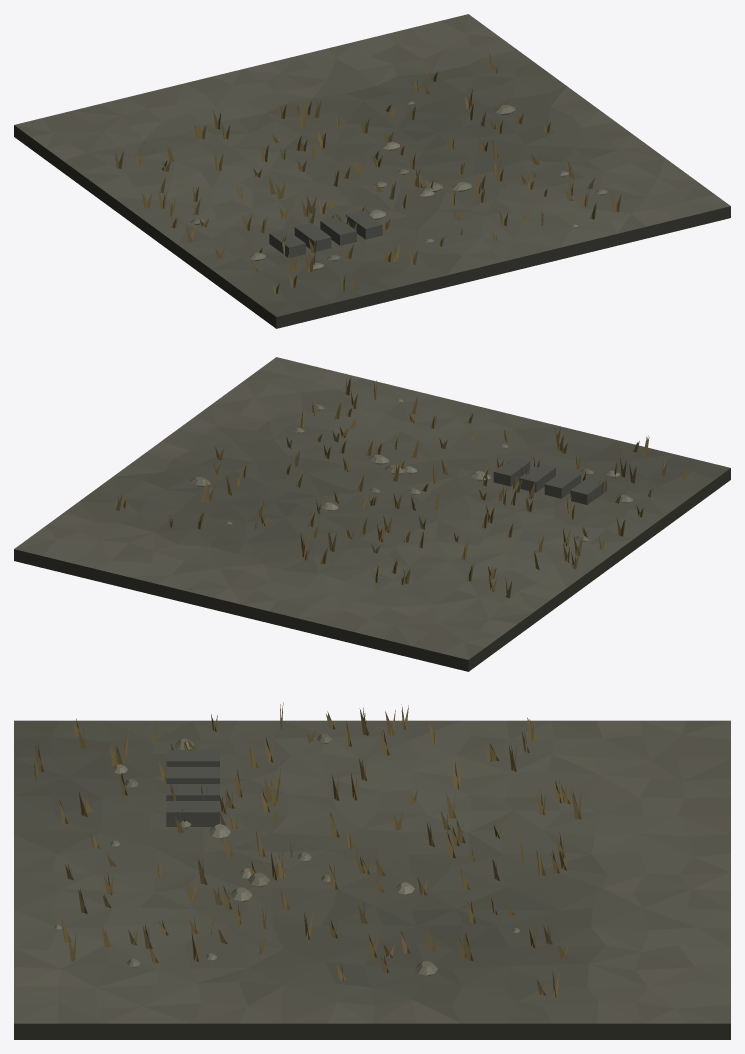
The model's file is CHUNK_oath_battlefield__broken_standards__01.glb.
3 renders of one model, top to bottom at view 1: azimuth 30°, elevation 25°; view 2: azimuth 150°, elevation 25°; view 3: azimuth 270°, elevation 25°, orthographic. The views are drawn at different scales.
Parts seen in each view (by area): view 1: CHUNK_oath_battlefield__broken_standards__01; view 2: CHUNK_oath_battlefield__broken_standards__01; view 3: CHUNK_oath_battlefield__broken_standards__01.
Part boxes in pixels (x1,y1,x2,y2): CHUNK_oath_battlefield__broken_standards__01: (14,14,730,328); CHUNK_oath_battlefield__broken_standards__01: (14,357,730,671); CHUNK_oath_battlefield__broken_standards__01: (14,702,730,1039).
Size of the model in its own units: 8 by 0.5598 by 8.
